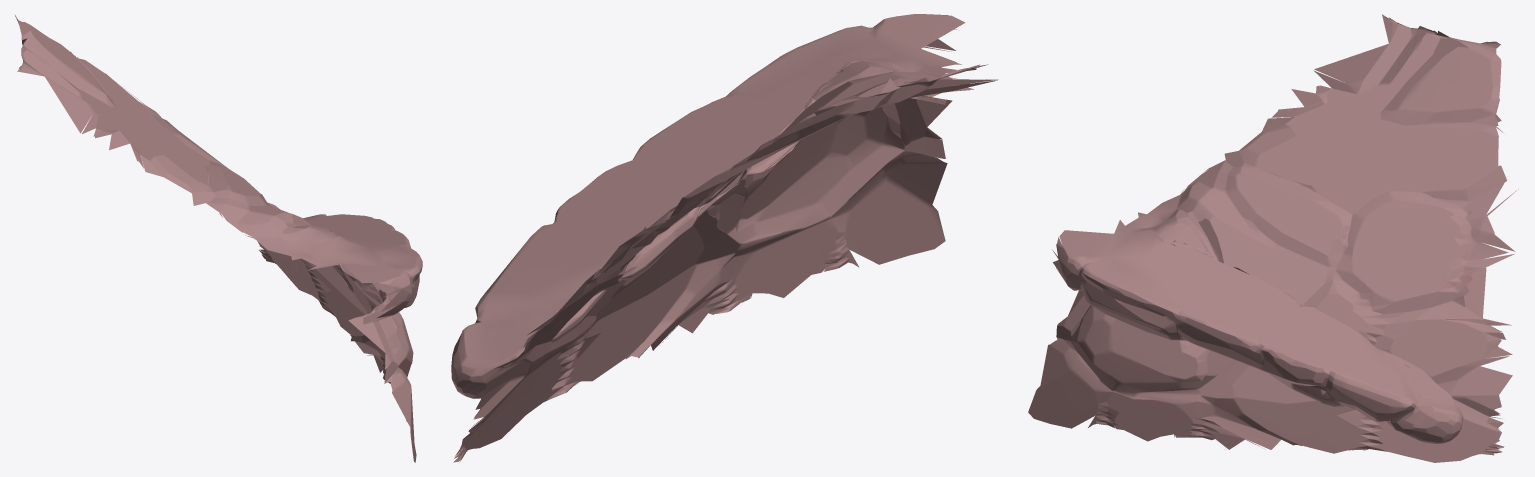
Rendered from plateau.fbx_Rock_Plateau_036LODs.fbx.
3 views of the same model, side by side, from view 1: azimuth 30°, elevation 25°; view 2: azimuth 150°, elevation 25°; view 3: azimuth 270°, elevation 25° (orthographic). The views are drawn at different scales.
Parts seen in each view (by area): view 1: Rock Plateau.036_LOD0; view 2: Rock Plateau.036_LOD0; view 3: Rock Plateau.036_LOD0.
Boxes of the visible parts, x1,y1,x2,y2 form: Rock Plateau.036_LOD0: (15, 15, 422, 462); Rock Plateau.036_LOD0: (451, 14, 998, 462); Rock Plateau.036_LOD0: (1028, 14, 1518, 462).
Size of what is drawn, in the model's own units: 3492 by 3086 by 4511.
